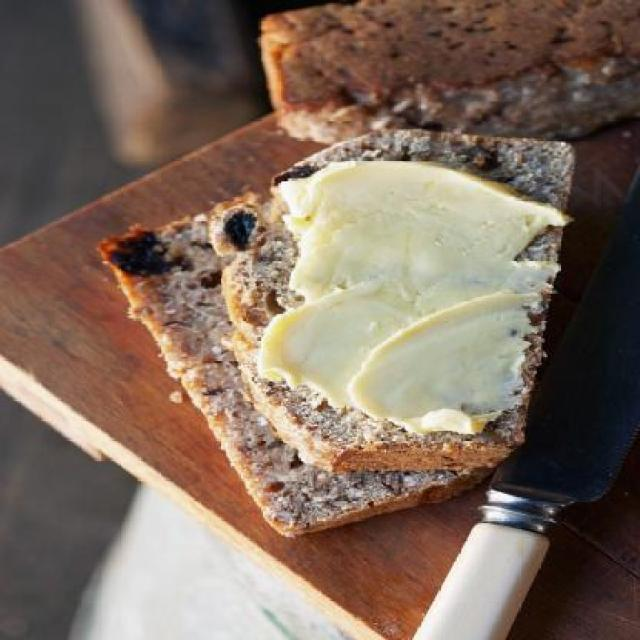Spread: (259, 158, 552, 428)
